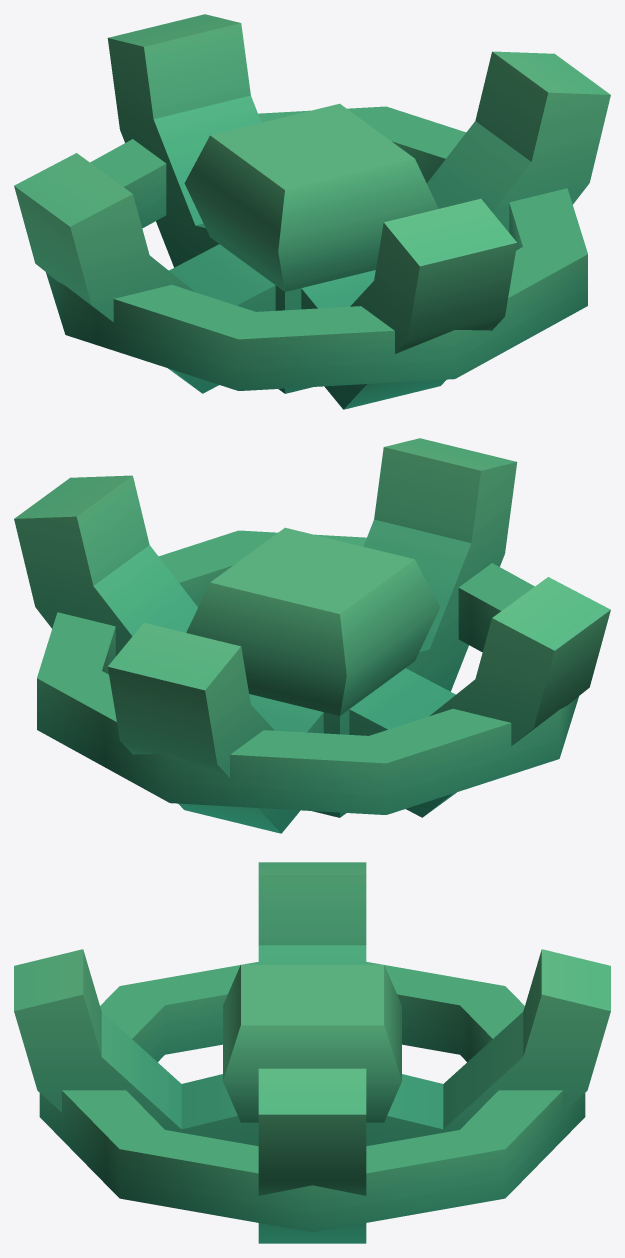
The model's file is fire-basket.glb.
The picture shows the model from 3 angles, top to bottom: view 1: azimuth 30°, elevation 25°; view 2: azimuth 150°, elevation 25°; view 3: azimuth 270°, elevation 25°; orthographic projection. The views are drawn at different scales.
Parts seen in each view (by area): view 1: fire-basket; view 2: fire-basket; view 3: fire-basket.
Part boxes in pixels (bbox=[...]): fire-basket: bbox=[14, 14, 610, 409]; fire-basket: bbox=[14, 438, 610, 833]; fire-basket: bbox=[14, 862, 610, 1243].
Bounding box in the file's own units: 0.4166 × 0.1678 × 0.4166.
Materials: 1 (1 with a texture image).
